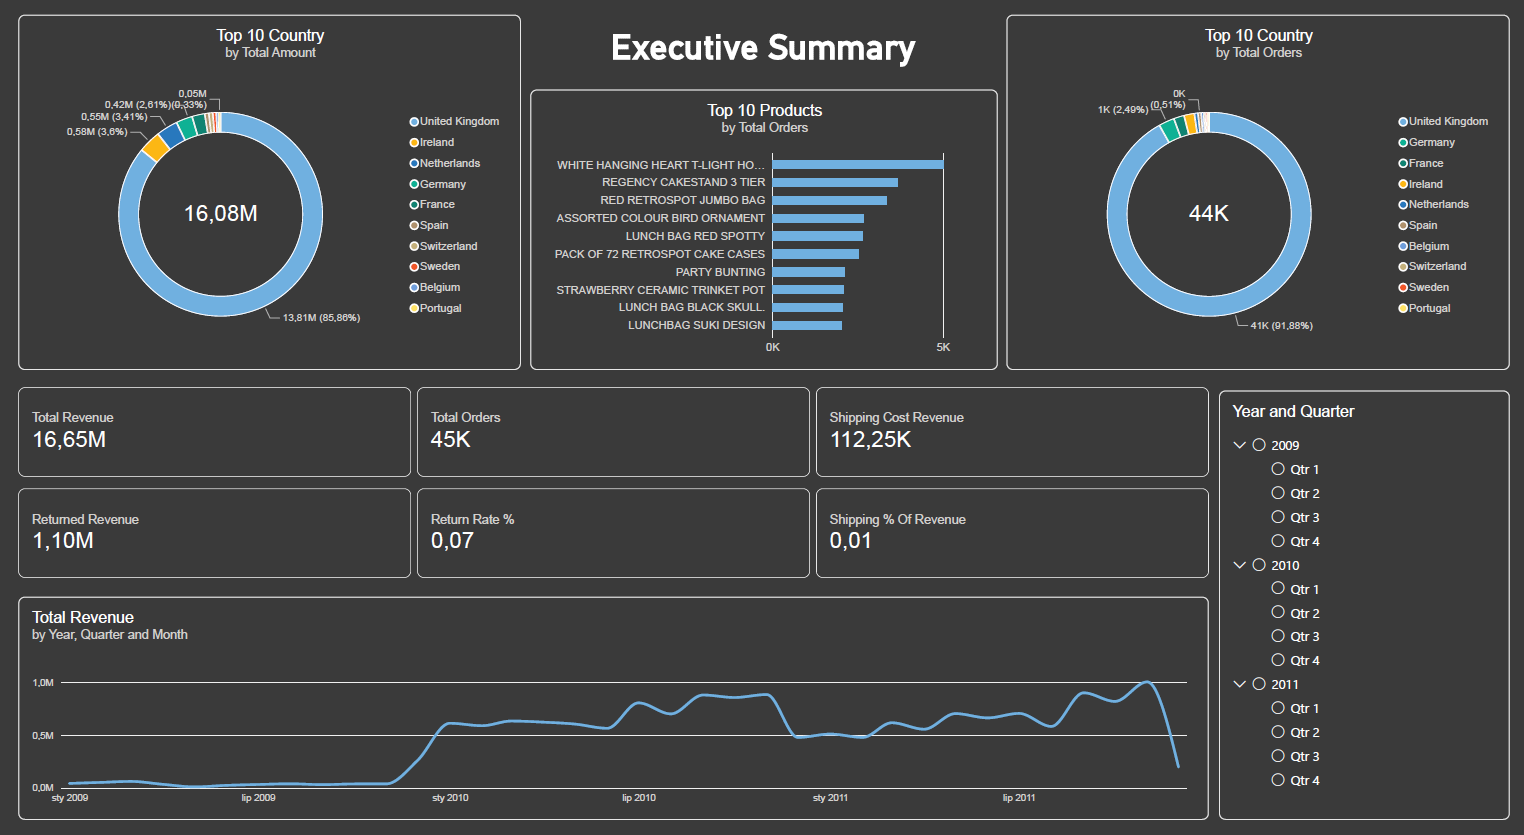

The dashboard page shown, as its layout file describes it:
{"tool":"powerbi","page":{"name":"Page 1","canvas":[1920,1080],"ordinal":0},"visuals":[{"type":"lineChart","fields":{"Category":["gold fact_sales.invoice_date.Variation.Date Hierarchy.Year","gold fact_sales.invoice_date.Variation.Date Hierarchy.Quarter","gold fact_sales.invoice_date.Variation.Date Hierarchy.Month"],"Y":["gold fact_sales.Total Revenue"]},"box":[27.7,761.6,1495.4,280.1],"z":0},{"type":"cardVisual","fields":{"Data":["gold fact_sales.Returned Revenue","gold fact_sales.Return Rate %","gold fact_sales.Shipping % Of Revenue"]},"box":[27.7,625.9,1495.4,112.3],"z":1000},{"type":"cardVisual","fields":{"Data":["gold fact_sales.Total Revenue","gold fact_sales.Total Orders","gold fact_sales.Shipping Cost Revenue"]},"box":[27.7,499,1495.4,112.3],"z":2000},{"type":"listSlicer","fields":{"Values":["gold fact_sales.invoice_date.Variation.Date Hierarchy.Year","gold fact_sales.invoice_date.Variation.Date Hierarchy.Quarter"]},"box":[1536.3,503.3,364.7,538.4],"z":3000},{"type":"donutChart","title":"Top 10 Country","fields":{"Category":["gold dim_customers.country"],"Y":["gold fact_sales.Total Orders"]},"box":[1269.3,30.6,631.7,446.4],"z":4000},{"type":"textbox","box":[659.5,30.6,609.8,124],"z":5000},{"type":"clusteredBarChart","title":"Top 10 Products","fields":{"Category":["gold dim_products.description"],"Y":["gold fact_sales.Total Orders"]},"box":[671.1,125.5,586.5,351.6],"z":6000},{"type":"donutChart","title":"Top 10 Country","fields":{"Category":["gold dim_customers.country"],"Y":["Sum(gold fact_sales.total_amount)"]},"box":[27.7,30.6,631.7,446.4],"z":7000}]}

Visuals, with their boxes in screenshot pixels (x1, y1, x2, y2), scaled from the page's 1920x1080 canvas onto the 1524x835 screenshot:
lineChart - gold fact_sales.invoice_date.Variation.Date Hierarchy.Year x gold fact_sales.invoice_date.Variation.Date Hierarchy.Quarter: locate(22, 589, 1209, 805)
cardVisual - gold fact_sales.Returned Revenue x gold fact_sales.Return Rate %: locate(22, 484, 1209, 571)
cardVisual - gold fact_sales.Total Revenue x gold fact_sales.Total Orders: locate(22, 386, 1209, 473)
listSlicer - gold fact_sales.invoice_date.Variation.Date Hierarchy.Year x gold fact_sales.invoice_date.Variation.Date Hierarchy.Quarter: locate(1219, 389, 1509, 805)
"Top 10 Country" donutChart: locate(1008, 24, 1509, 369)
textbox: locate(523, 24, 1008, 120)
"Top 10 Products" clusteredBarChart: locate(533, 97, 998, 369)
"Top 10 Country" donutChart: locate(22, 24, 523, 369)
